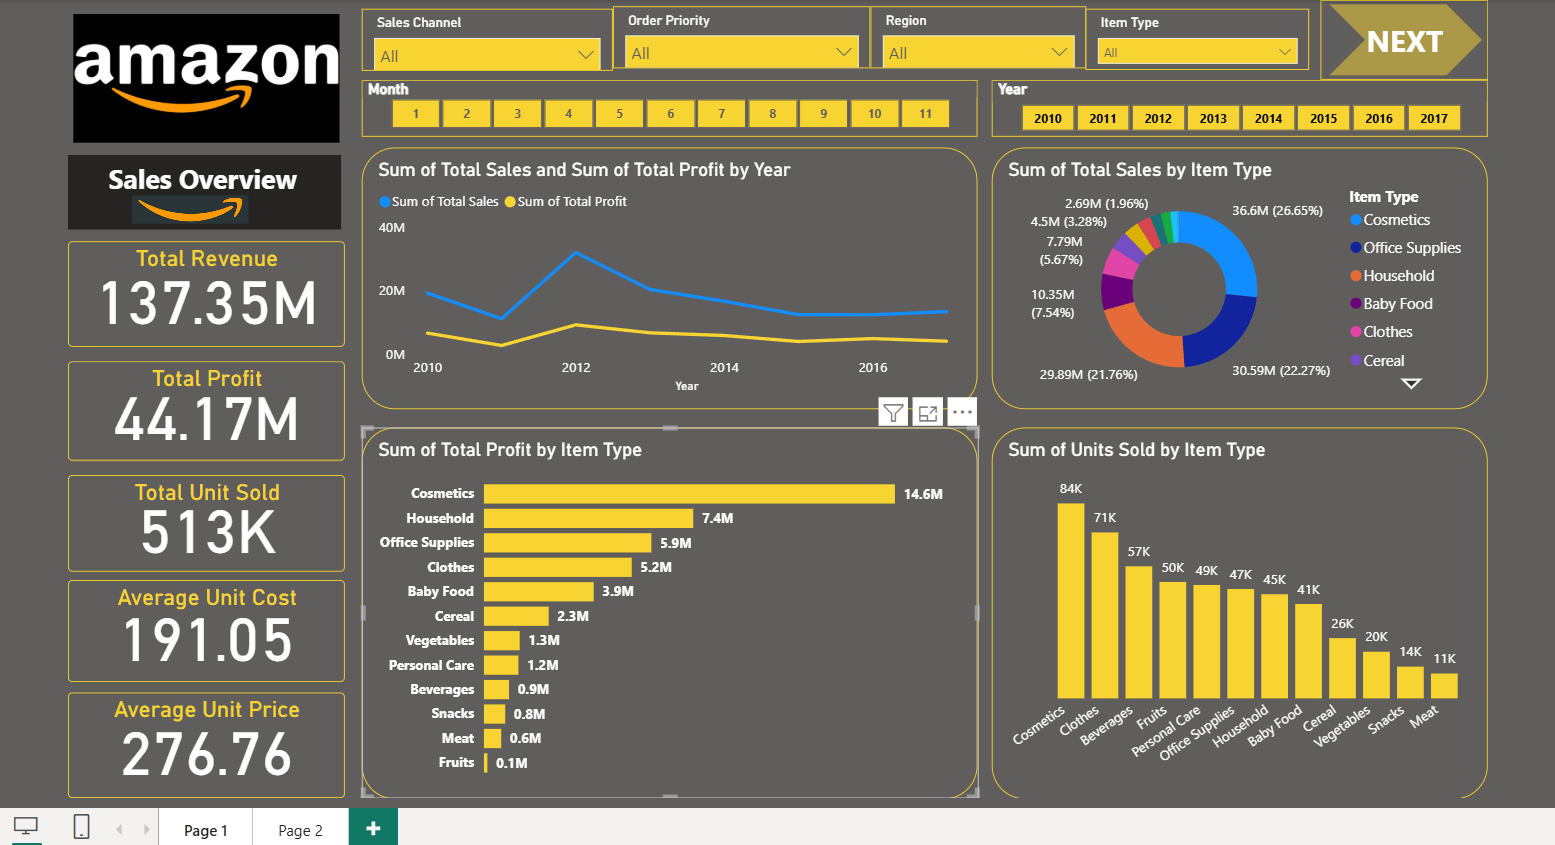

This screenshot's page, from the dashboard's own definition file:
{"tool":"powerbi","page":{"name":"Page 1","canvas":[1280,720],"ordinal":0},"visuals":[{"type":"donutChart","fields":{"Category":["Sheet1.Item Type"],"Y":["Sum(Sheet1.Total Sales)"]},"box":[832.7,133.3,447.6,236],"z":0},{"type":"lineChart","fields":{"Y":["Sum(Sheet1.Total Sales)","Sum(Sheet1.Total Profit)"],"Category":["Sheet1.Year"]},"box":[265.4,133.3,555.2,236],"z":1000},{"type":"barChart","fields":{"Y":["Sum(Sheet1.Total Profit)"],"Category":["Sheet1.Item Type"]},"box":[265.4,385.2,555.2,335.1],"z":2000},{"type":"columnChart","fields":{"Category":["Sheet1.Item Type"],"Y":["Sum(Sheet1.Units Sold)"]},"box":[832.7,385.2,447.6,335.1],"z":3000},{"type":"slicer","title":"Month","fields":{"Values":["Sheet1.Month"]},"box":[265.4,72.1,555.2,51.4],"z":4000},{"type":"card","title":"Total Revenue","fields":{"Values":["Sum(Sheet1.Total Revenue)"]},"box":[0,217.7,249.5,95.4],"z":5000},{"type":"card","title":"Total Profit","fields":{"Values":["Sum(Sheet1.Total Profit)"]},"box":[0,325.3,249.5,89.3],"z":6000},{"type":"slicer","title":"Year","fields":{"Values":["Sheet1.Year"]},"box":[832.7,72.1,447.6,51.4],"z":7000},{"type":"card","title":"Average Unit Cost","fields":{"Values":["Avg(Sheet1.Unit Cost)"]},"box":[0,523.4,249.5,91.7],"z":8000},{"type":"card","title":"Average Unit Price","fields":{"Values":["Avg(Sheet1.Unit Price)"]},"box":[0,624.9,249.5,95.4],"z":9000},{"type":"card","title":"Total Unit Sold","fields":{"Values":["Sum(Sheet1.Units Sold)"]},"box":[0,428,249.5,86.8],"z":10000},{"type":"slicer","fields":{"Values":["Sheet1.Sales Channel"]},"box":[0,143.1,233.6,55],"z":11000},{"type":"actionButton","box":[1129.4,0,151,72.1],"z":12000},{"type":"slicer","fields":{"Values":["Sheet1.Item Type"]},"box":[917.1,7.3,201.8,55],"z":13000},{"type":"slicer","fields":{"Values":["Sheet1.Region"]},"box":[723.9,6.1,194.4,56.3],"z":14000},{"type":"slicer","fields":{"Values":["Sheet1.Order Priority"]},"box":[491.6,6.1,232.3,56.3],"z":15000},{"type":"image","box":[0,7.3,249.5,126],"z":16000},{"type":"textbox","box":[-3.9,139.7,249.5,67.3],"z":17000,"group":"g1"},{"type":"group","id":"g1","title":"Group 1","box":[-3.9,139.7,249.5,67.3],"z":17000},{"type":"slicer","fields":{"Values":["Sheet1.Sales Channel"]},"box":[265.4,7.3,226.2,56.3],"z":18000},{"type":"image","box":[52.5,171.2,114.9,35.5],"z":18000,"group":"g1"}]}

Visuals, with their boxes on the page's 1280x720 design canvas (x1, y1, x2, y2). These are canvas units, not pixel positions in the 1555x845 screenshot, which may show the page scaled, cropped or inside an application window:
donutChart - Sheet1.Item Type x Sum(Sheet1.Total Sales): (x1=833, y1=133, x2=1280, y2=369)
lineChart - Sum(Sheet1.Total Sales) x Sum(Sheet1.Total Profit): (x1=265, y1=133, x2=821, y2=369)
barChart - Sum(Sheet1.Total Profit) x Sheet1.Item Type: (x1=265, y1=385, x2=821, y2=720)
columnChart - Sheet1.Item Type x Sum(Sheet1.Units Sold): (x1=833, y1=385, x2=1280, y2=720)
"Month" slicer: (x1=265, y1=72, x2=821, y2=124)
"Total Revenue" card: (x1=0, y1=218, x2=250, y2=313)
"Total Profit" card: (x1=0, y1=325, x2=250, y2=415)
"Year" slicer: (x1=833, y1=72, x2=1280, y2=124)
"Average Unit Cost" card: (x1=0, y1=523, x2=250, y2=615)
"Average Unit Price" card: (x1=0, y1=625, x2=250, y2=720)
"Total Unit Sold" card: (x1=0, y1=428, x2=250, y2=515)
slicer - Sheet1.Sales Channel: (x1=0, y1=143, x2=234, y2=198)
actionButton: (x1=1129, y1=0, x2=1280, y2=72)
slicer - Sheet1.Item Type: (x1=917, y1=7, x2=1119, y2=62)
slicer - Sheet1.Region: (x1=724, y1=6, x2=918, y2=62)
slicer - Sheet1.Order Priority: (x1=492, y1=6, x2=724, y2=62)
image: (x1=0, y1=7, x2=250, y2=133)
textbox: (x1=-4, y1=140, x2=246, y2=207)
"Group 1" group: (x1=-4, y1=140, x2=246, y2=207)
slicer - Sheet1.Sales Channel: (x1=265, y1=7, x2=492, y2=64)
image: (x1=52, y1=171, x2=167, y2=207)
